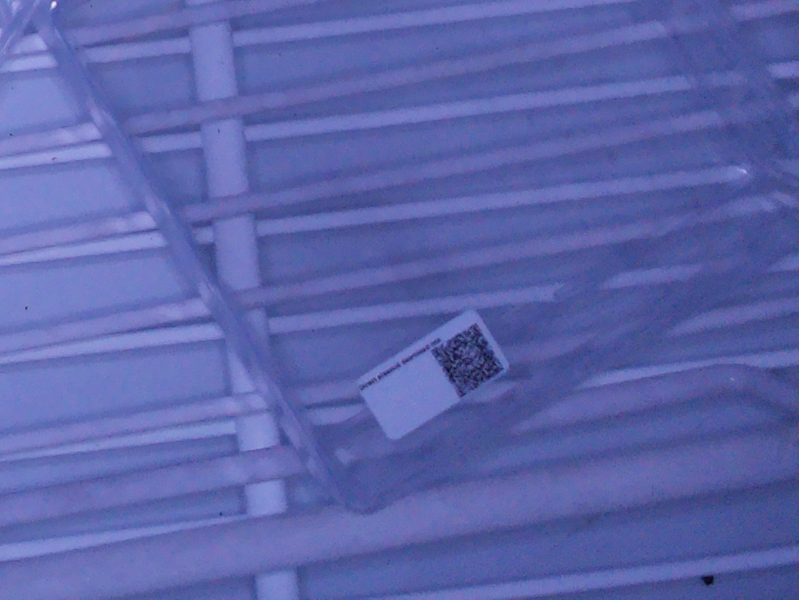plate: (29, 1, 799, 517)
